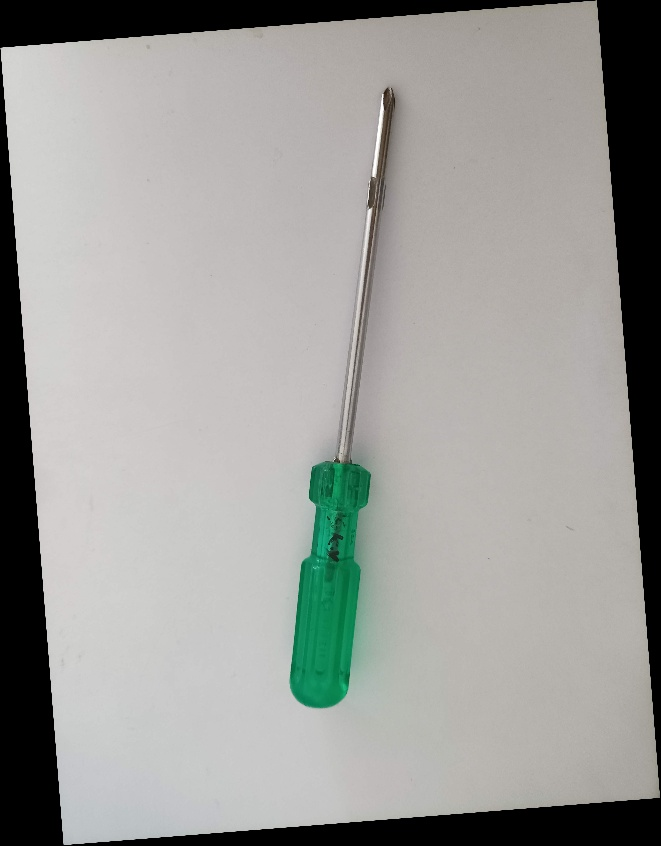screwdriver: (286, 82, 399, 709)
